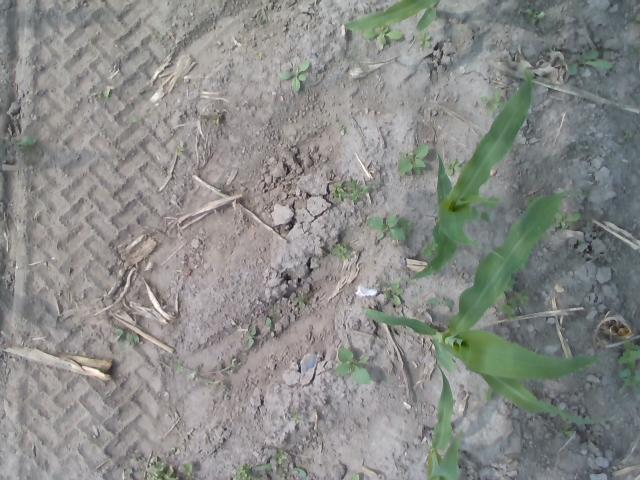Maize: (362, 186, 612, 427), (408, 68, 534, 278), (424, 359, 460, 480), (343, 0, 441, 33)
Weeds: (496, 278, 532, 319), (334, 347, 371, 384), (368, 213, 412, 242), (617, 338, 640, 392), (567, 50, 613, 74), (278, 59, 310, 92), (396, 144, 429, 174), (465, 195, 498, 225), (329, 180, 368, 205), (362, 23, 403, 46), (378, 280, 404, 306), (144, 459, 176, 480), (479, 90, 506, 114), (112, 327, 140, 350), (553, 212, 582, 229), (14, 134, 38, 152), (524, 7, 546, 26), (331, 242, 354, 260), (232, 463, 254, 480), (443, 158, 462, 176), (426, 296, 454, 308), (416, 28, 432, 48), (271, 448, 288, 464), (246, 325, 256, 349), (96, 88, 112, 102), (484, 384, 496, 402), (524, 193, 540, 206), (559, 424, 574, 437), (290, 411, 304, 424), (188, 365, 200, 380), (294, 296, 307, 309), (293, 466, 307, 478), (180, 462, 192, 476), (176, 140, 186, 156), (264, 316, 275, 330), (174, 360, 184, 374), (255, 462, 272, 470), (622, 128, 634, 139), (274, 465, 285, 477), (346, 51, 354, 60), (348, 474, 360, 480), (633, 12, 640, 22), (158, 31, 166, 38), (340, 125, 346, 130), (130, 457, 136, 462), (578, 241, 584, 245)
